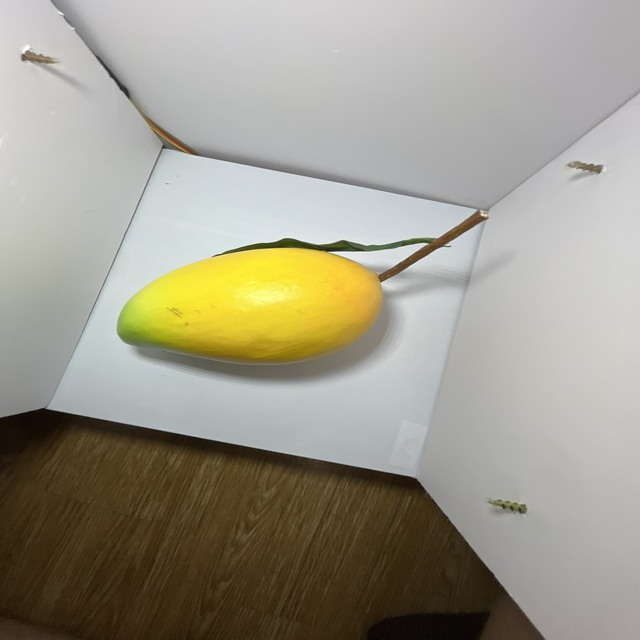Xoai: (106, 245, 391, 367)
